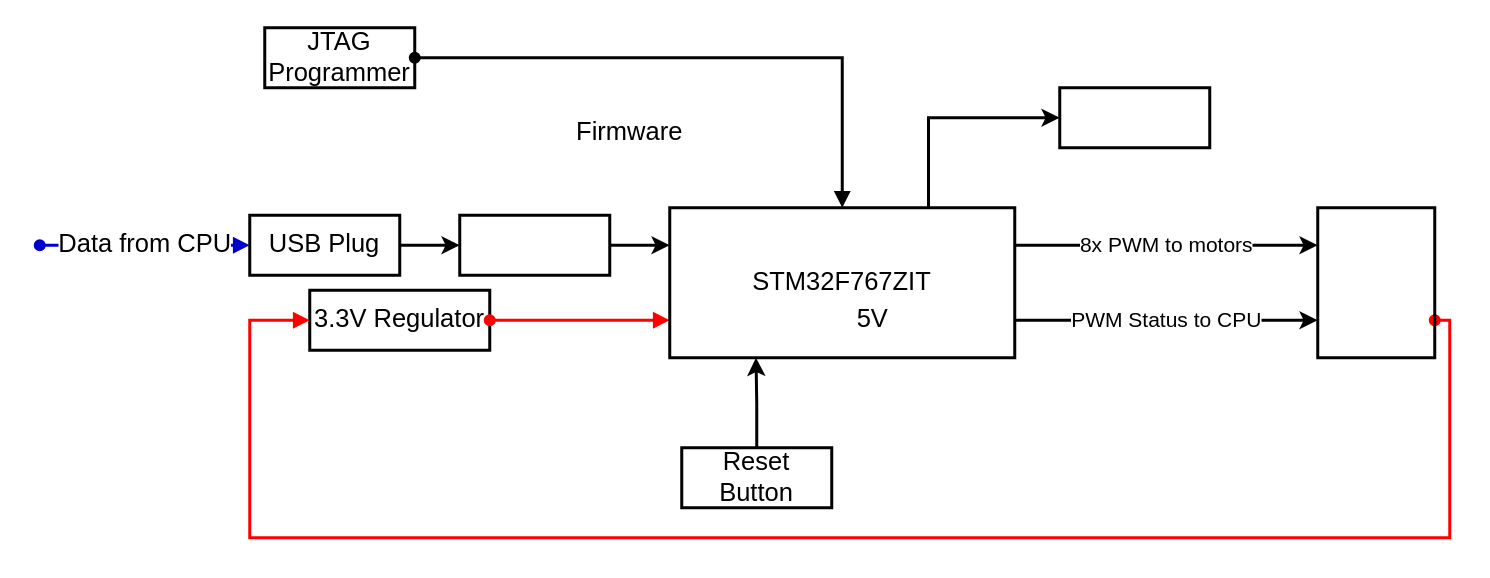
This 1490x578 diagram has some shape labels left out. The centre of each missing label's shape, as x and y in pixels:
"Board to Board Slot Connector" goes at (1376,282).
"FTD232" goes at (534,244).
"LED Status Indicators" goes at (1134,117).
